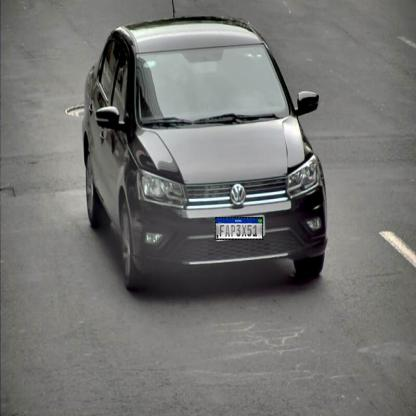PlacaM: (215, 217, 263, 240)
